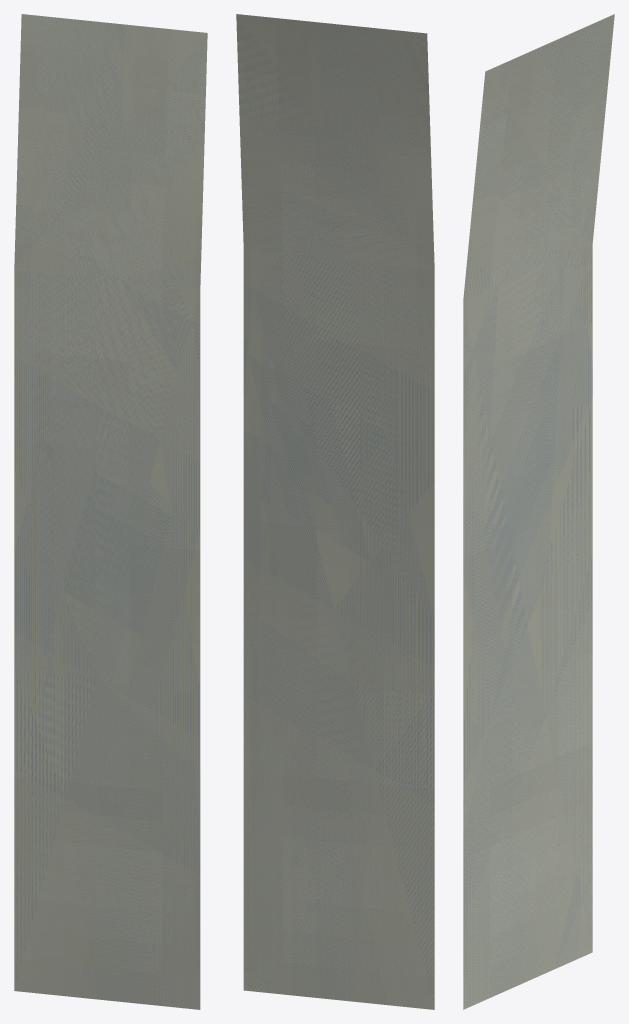
Rendered from 人民英雄纪念碑205.dae.
The picture shows the model from 3 angles, left to right: view 1: azimuth 30°, elevation 25°; view 2: azimuth 210°, elevation 25°; view 3: azimuth 270°, elevation 25°; orthographic projection. The views are drawn at different scales.
Parts seen in each view (by area): view 1: SketchUp; view 2: SketchUp; view 3: SketchUp.
Boxes of the visible parts, box(x1,y1,x2,y2) form: SketchUp: box(14, 14, 207, 1009); SketchUp: box(236, 14, 434, 1009); SketchUp: box(463, 14, 614, 1009).
Bounding box in the file's own units: 9.86 × 9.51 × 65.53.
